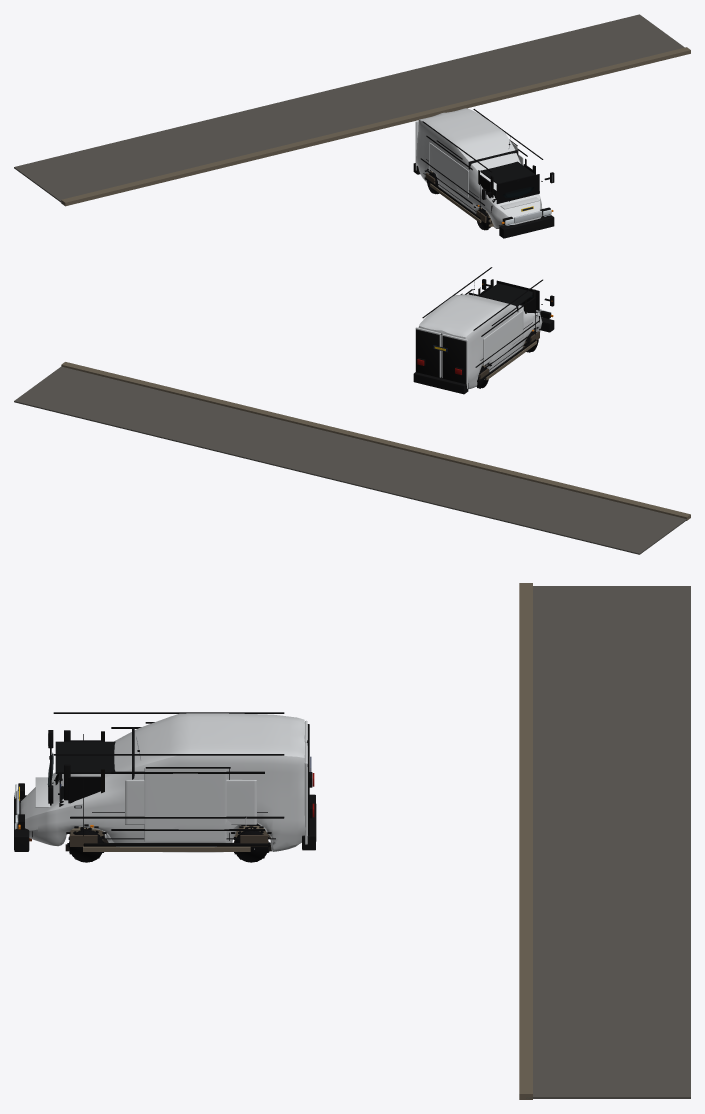
The model's file is hm_civ_van_v3.obj.
3 views of the same model, one above another, from view 1: azimuth 30°, elevation 25°; view 2: azimuth 150°, elevation 25°; view 3: azimuth 270°, elevation 25° (orthographic). The views are drawn at different scales.
Parts seen in each view (by area): view 1: ground_walk, Van_Body, ground_curb, Van_side_stamp_-1, Van_ws_gasket, Van_occ_head, Van_fbump; view 2: ground_walk, Van_Body, ground_curb, Van_side_stamp_-1, Van_rear_frame_-1, Van_rear_frame_1, Van_occ_head, Van_rbump; view 3: ground_walk, Van_Body, ground_curb, Van_slidedoor, Van_side_stamp_1, Van_occ_head, Van_dirt_rocker_1.
Boxes of the visible parts, x1,y1,x2,y2 form: ground_walk: (14,14,684,203); Van_Body: (416,108,542,228); ground_curb: (61,47,690,206); Van_side_stamp_-1: (429,142,468,197); Van_ws_gasket: (496,174,539,203); Van_occ_head: (480,161,535,183); Van_fbump: (499,214,554,238); ground_walk: (14,366,686,554); Van_Body: (418,294,542,388); ground_curb: (61,362,690,520); Van_side_stamp_-1: (483,310,523,365); Van_rear_frame_-1: (442,336,466,384); Van_rear_frame_1: (416,329,439,377); Van_occ_head: (481,283,532,305); Van_rbump: (413,372,468,394); ground_walk: (526,586,690,1098); Van_Body: (20,713,305,852); ground_curb: (519,583,532,1099); Van_slidedoor: (144,767,226,842); Van_side_stamp_1: (125,779,256,824); Van_occ_head: (55,741,115,773); Van_dirt_rocker_1: (83,846,250,851).
Size of the model in its own units: 22 by 2.46 by 12.32.
